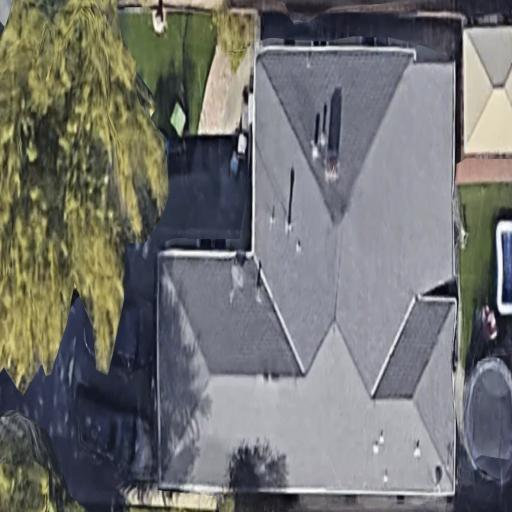Slope-Roof: (158, 44, 455, 495)
